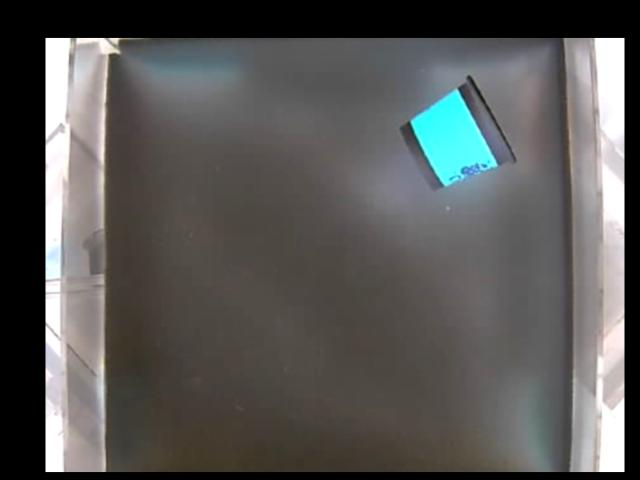Cup: (397, 72, 515, 192)
